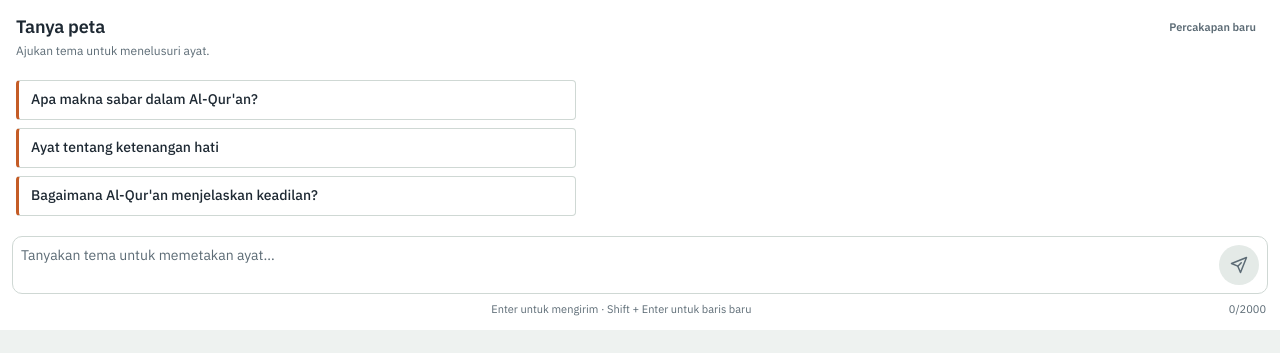
question lifecycle › shows server failures separately from assistant answers
Type "Sabar" into the text box at (616, 265), box [21, 245, 1211, 285]
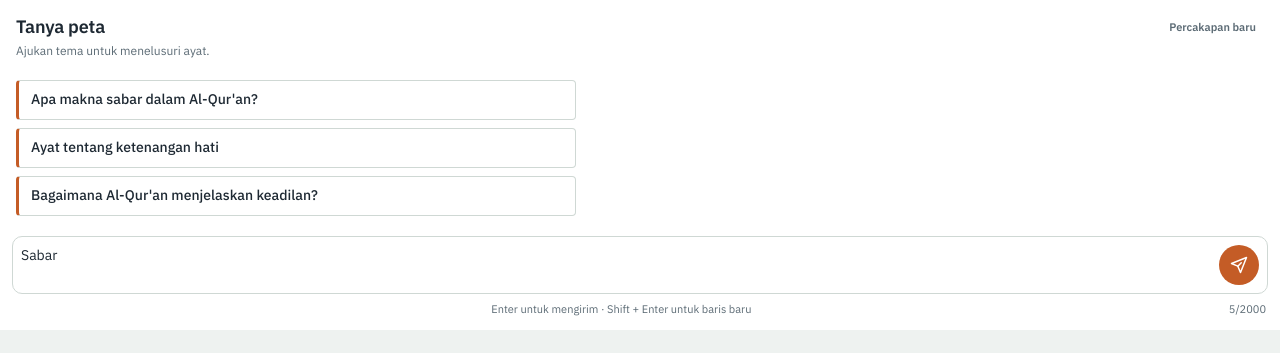
Click the button named "Kirim pertanyaan" at (1239, 265), box [1219, 245, 1259, 285]
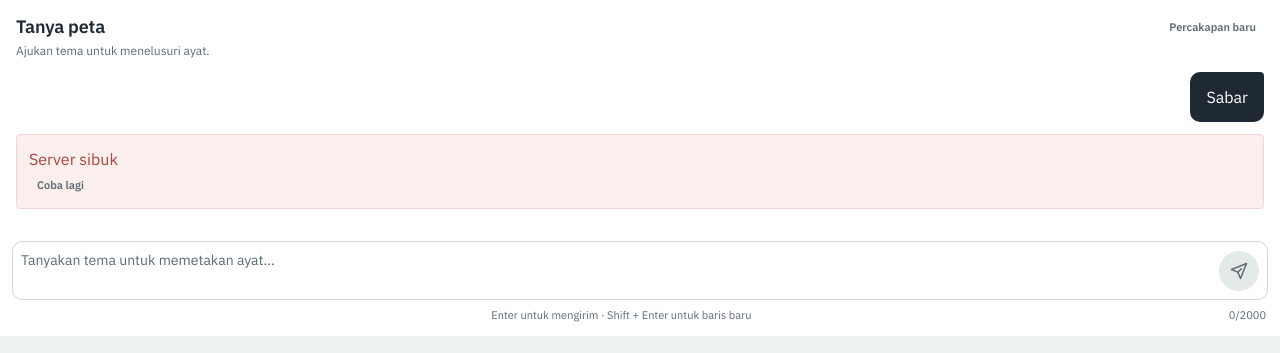
Expected: the message shows "Server sibuk", [29, 149, 118, 169]
